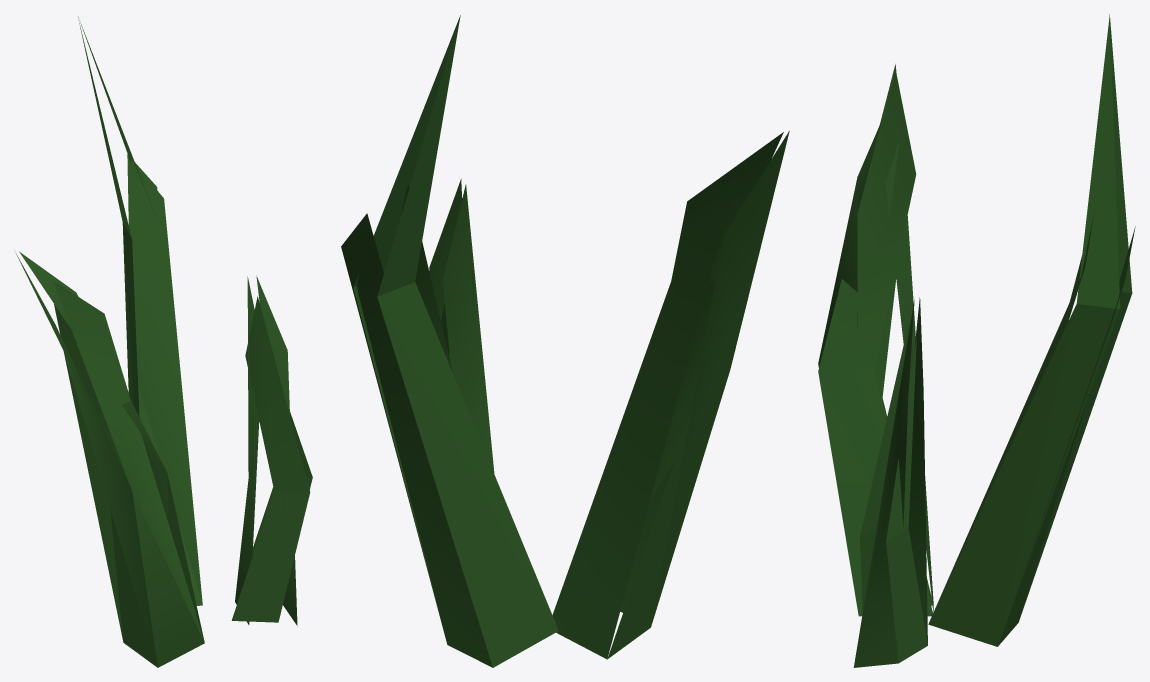
File: Grass2_med.glb
3 renders of one model, left to right at view 1: azimuth 30°, elevation 25°; view 2: azimuth 150°, elevation 25°; view 3: azimuth 270°, elevation 25°, orthographic. The views are drawn at different scales.
Parts seen in each view (by area): view 1: Grass_005; view 2: Grass_005; view 3: Grass_005.
Part boxes in pixels (box(x1,y1,x2,y2)): Grass_005: box(16, 17, 312, 667); Grass_005: box(341, 15, 789, 667); Grass_005: box(818, 14, 1135, 667).
Bounding box in the file's own units: 0.2617 × 0.4765 × 0.2248.
